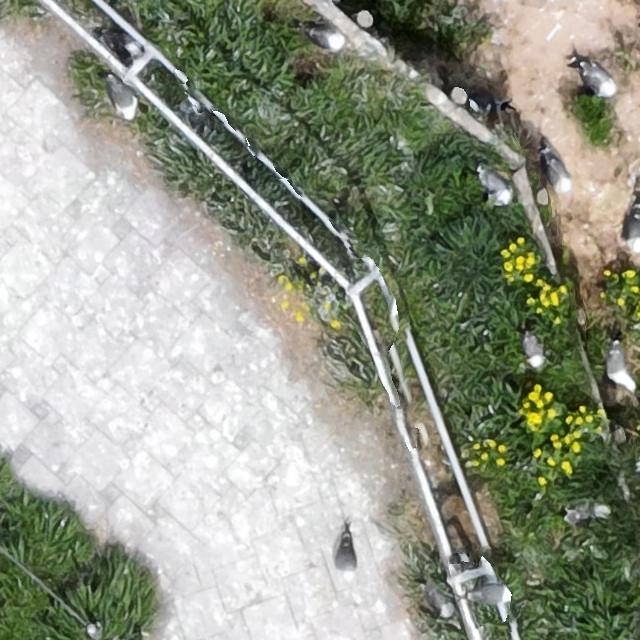umineko: (104, 79, 138, 124), (335, 532, 360, 586), (585, 67, 614, 97), (607, 347, 628, 387), (481, 172, 509, 202), (306, 27, 341, 49), (546, 158, 570, 190), (428, 588, 453, 615), (523, 333, 543, 366), (474, 585, 509, 602), (627, 213, 639, 250), (86, 623, 100, 639)
